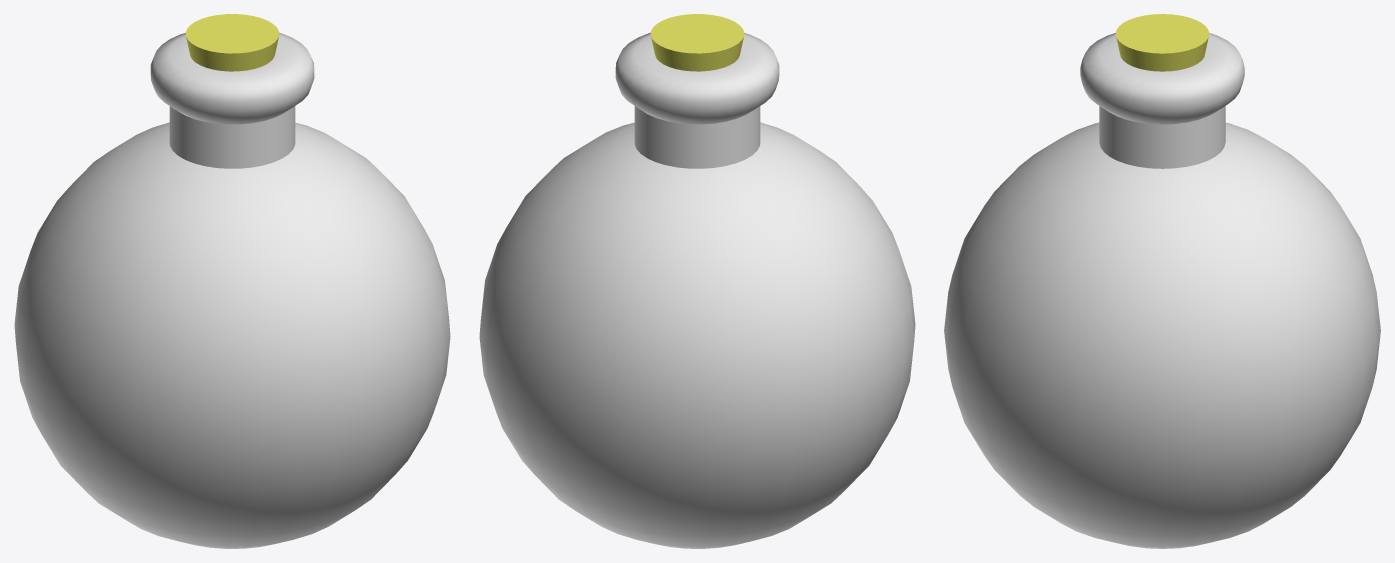
The model's file is potion.fbx.
The picture shows the model from 3 angles, left to right: view 1: azimuth 30°, elevation 25°; view 2: azimuth 150°, elevation 25°; view 3: azimuth 270°, elevation 25°; orthographic projection.
Visible parts, largest first — view 1: Pot; view 2: Pot; view 3: Pot.
Boxes of the visible parts, left/top/right/bottom form: Pot: left=14, top=14, right=450, bottom=548; Pot: left=479, top=14, right=915, bottom=548; Pot: left=944, top=14, right=1380, bottom=548.
Bounding box in the file's own units: 100 × 125 × 100.
